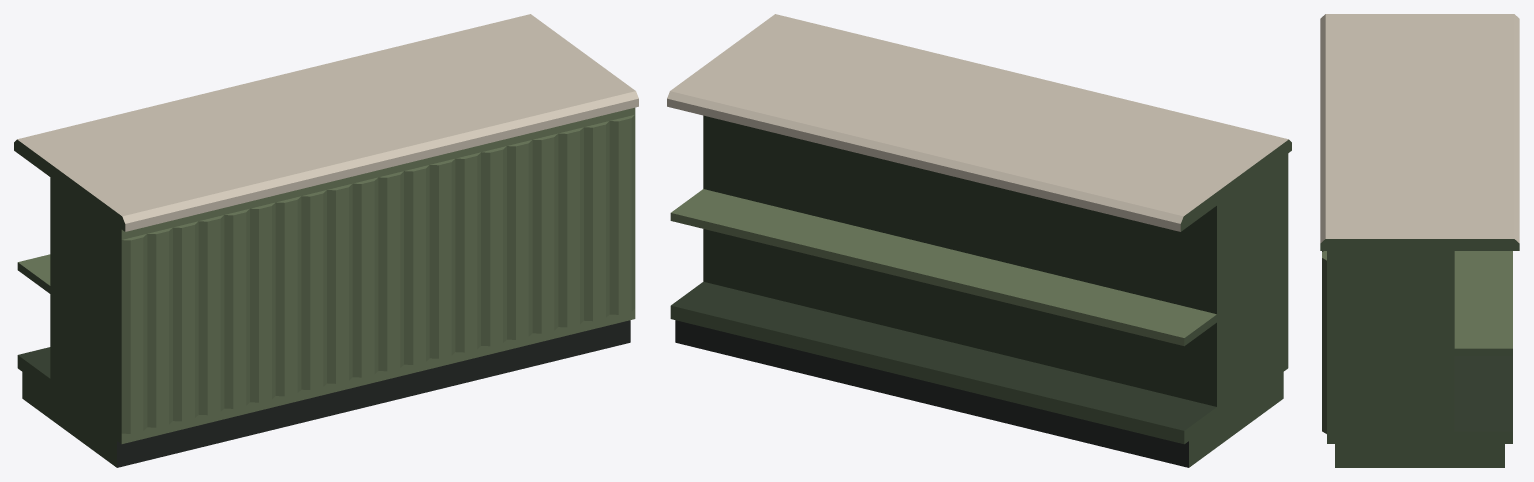
Rendered from service-counter-module-3072ff.glb.
3 renders of one model, left to right at view 1: azimuth 30°, elevation 25°; view 2: azimuth 150°, elevation 25°; view 3: azimuth 270°, elevation 25°, orthographic. The views are drawn at different scales.
Visible parts, largest first — view 1: counter; view 2: counter; view 3: counter.
Boxes of the visible parts, x1,y1,x2,y2 form: counter: [14, 14, 638, 467]; counter: [667, 14, 1291, 467]; counter: [1320, 14, 1519, 467].
Bounding box in the file's own units: 2 × 0.95 × 0.75.
